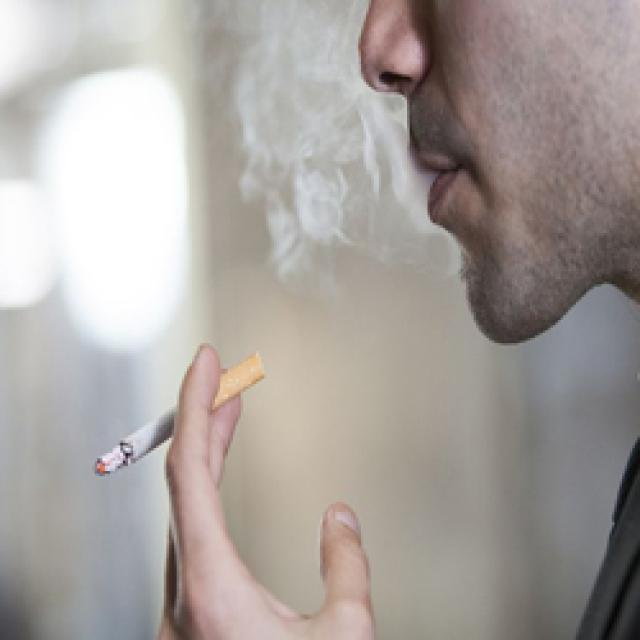Smooking: (77, 339, 296, 489)
